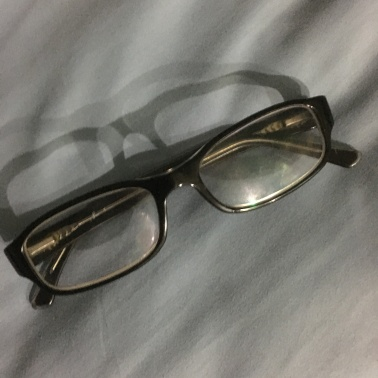glasses: (24, 120, 336, 284)
